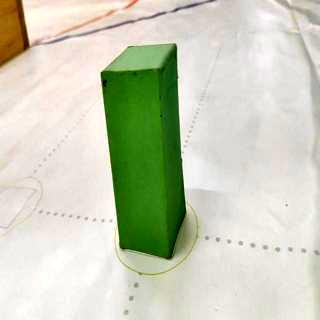greenbox: (99, 42, 187, 264)
